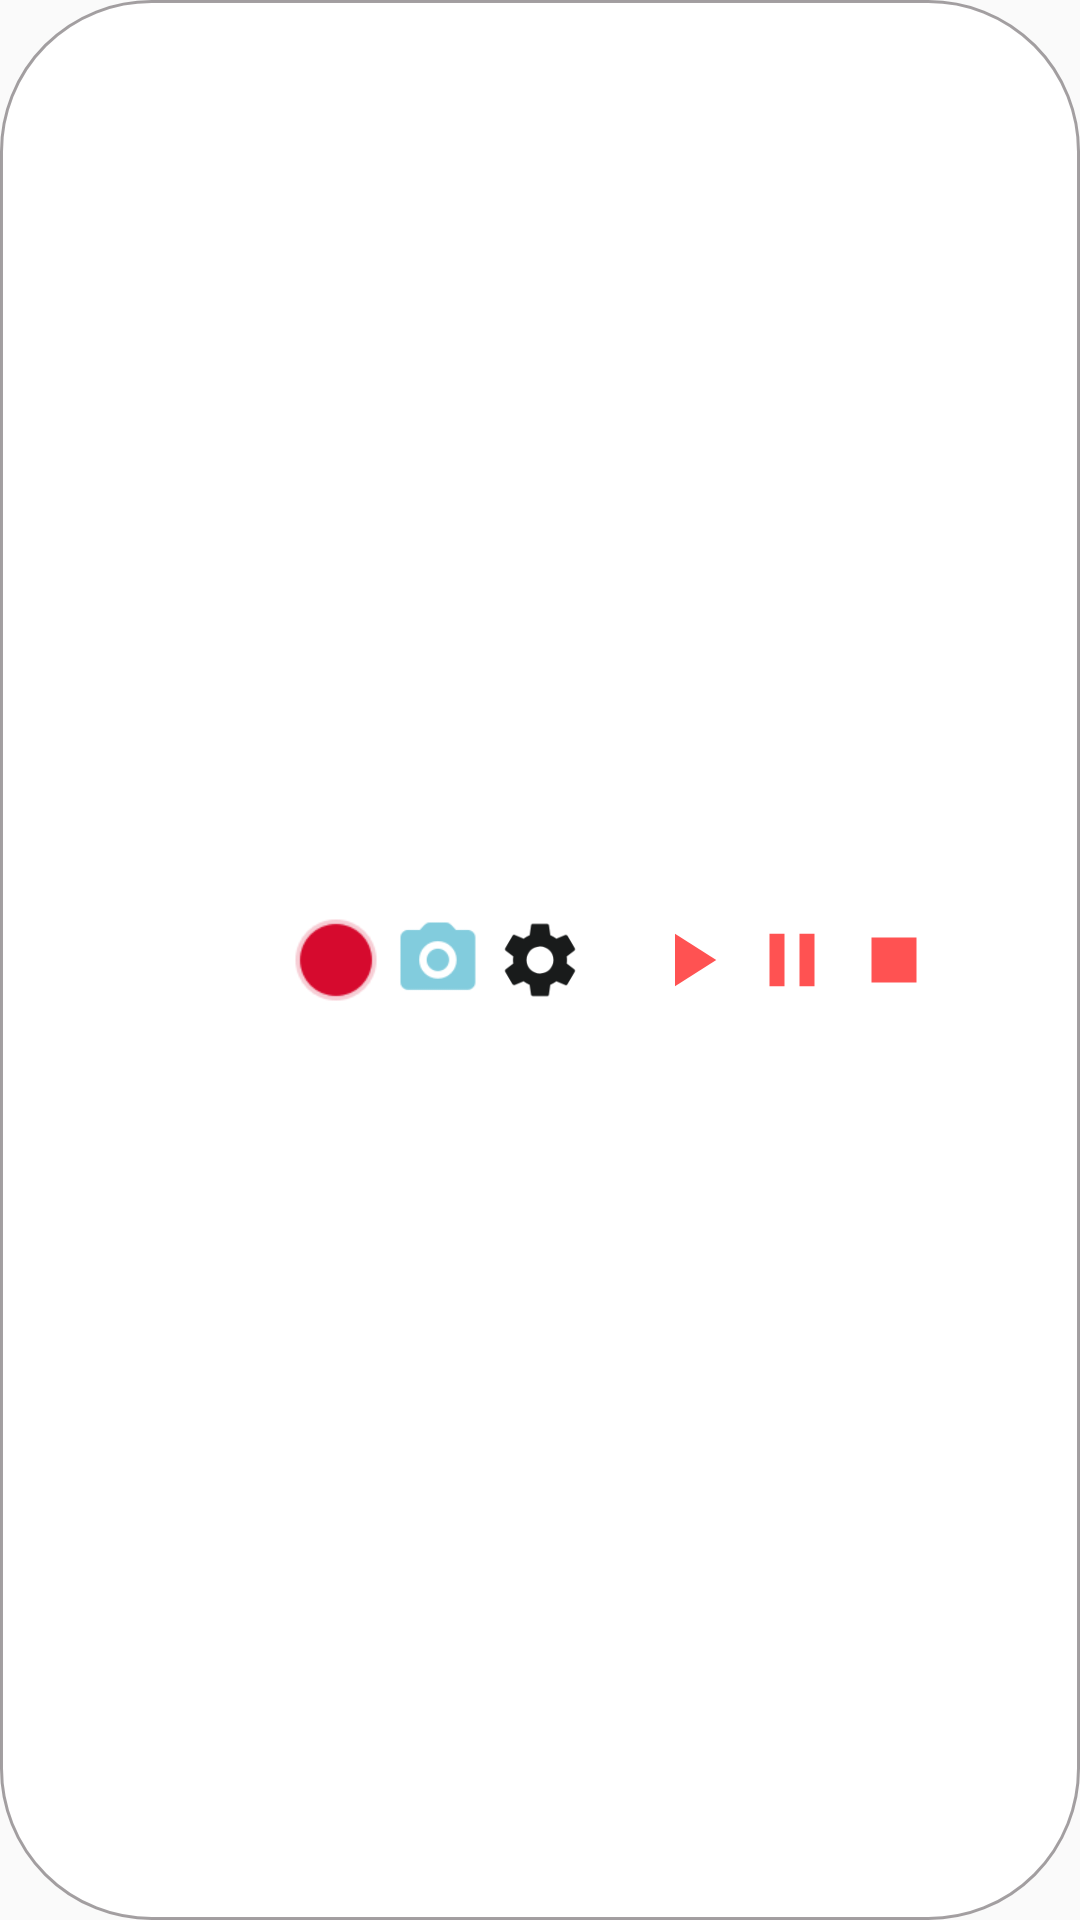

Screen size 1080px×1920px. Icon name, then its center in pixels as (x,y):
pause: (792,960)
play arrow: (695,960)
record: (336,960)
setting: (540,960)
stop: (894,960)
